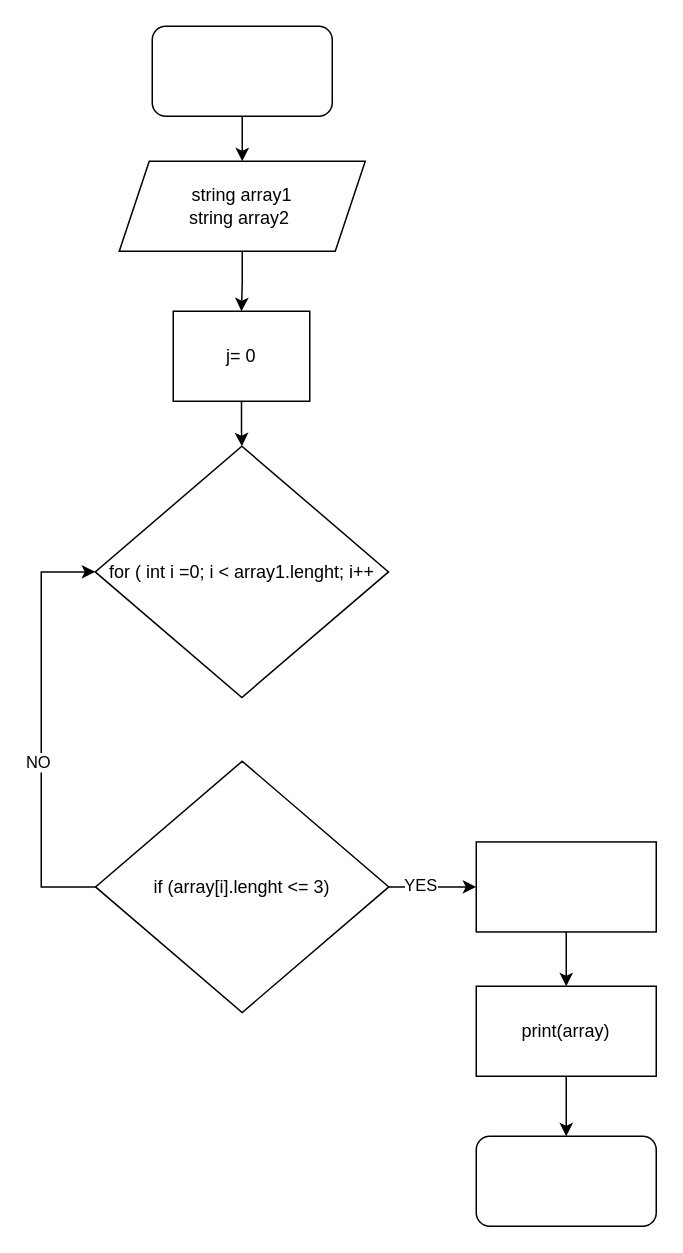
This 683x1253 diagram has some shape labels left out. The shapes that lost their labels are listed below. From the top down, each one's box as (x1, y1, x2, y2) in pixels, then its label:
(151, 25, 332, 116): start
(475, 840, 656, 932): array2[j] = array[i] j++
(475, 1135, 656, 1226): stop
